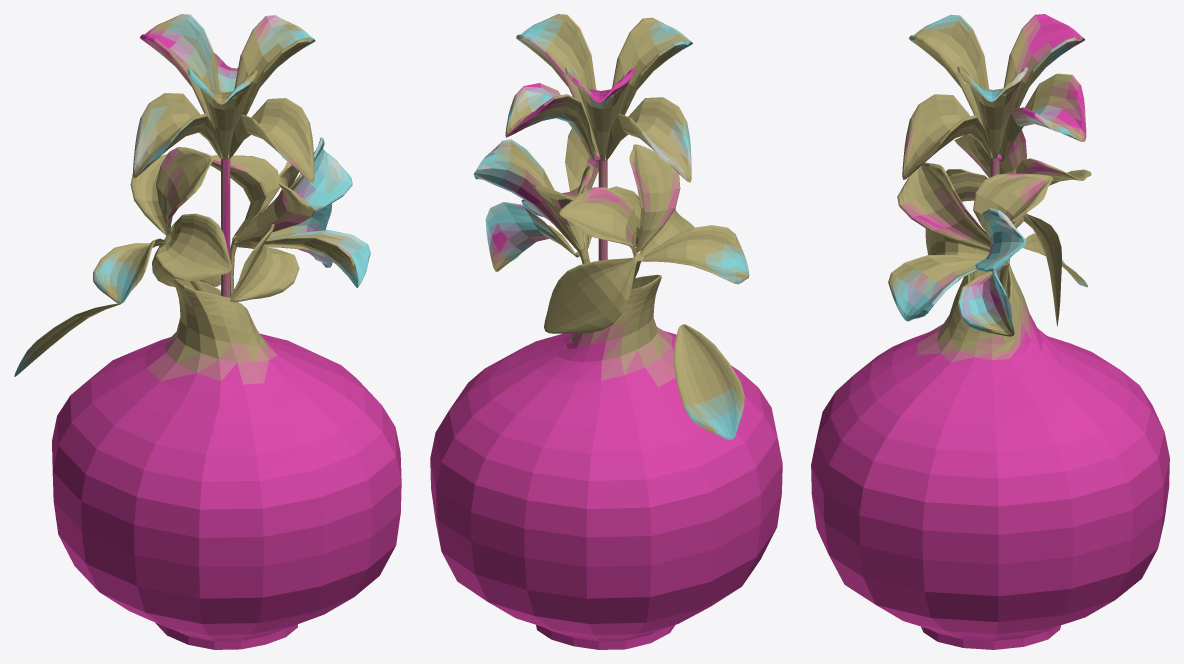
3 renders of one model, left to right at view 1: azimuth 30°, elevation 25°; view 2: azimuth 150°, elevation 25°; view 3: azimuth 270°, elevation 25°, orthographic.
Visible parts, largest first — view 1: world; view 2: world; view 3: world.
Boxes of the visible parts, x1,y1,x2,y2 form: world: (14,14,401,649); world: (430,14,782,649); world: (811,14,1169,649).
Size of the model in its own units: 0.5816 by 1 by 0.5597.
